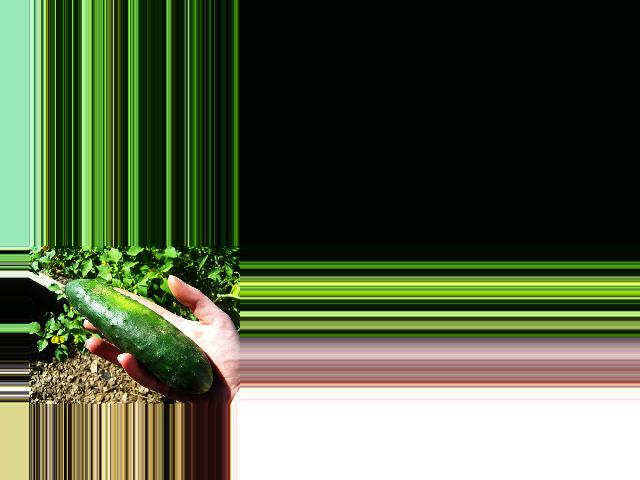cucumber: (64, 279, 211, 393)
